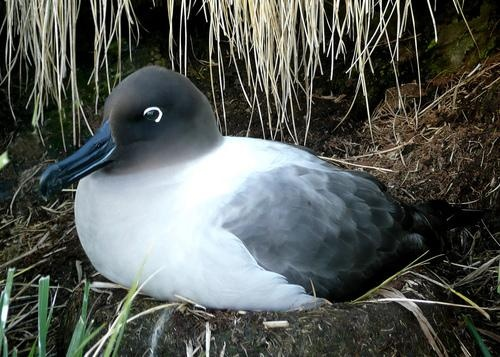bird: (34, 65, 435, 312)
